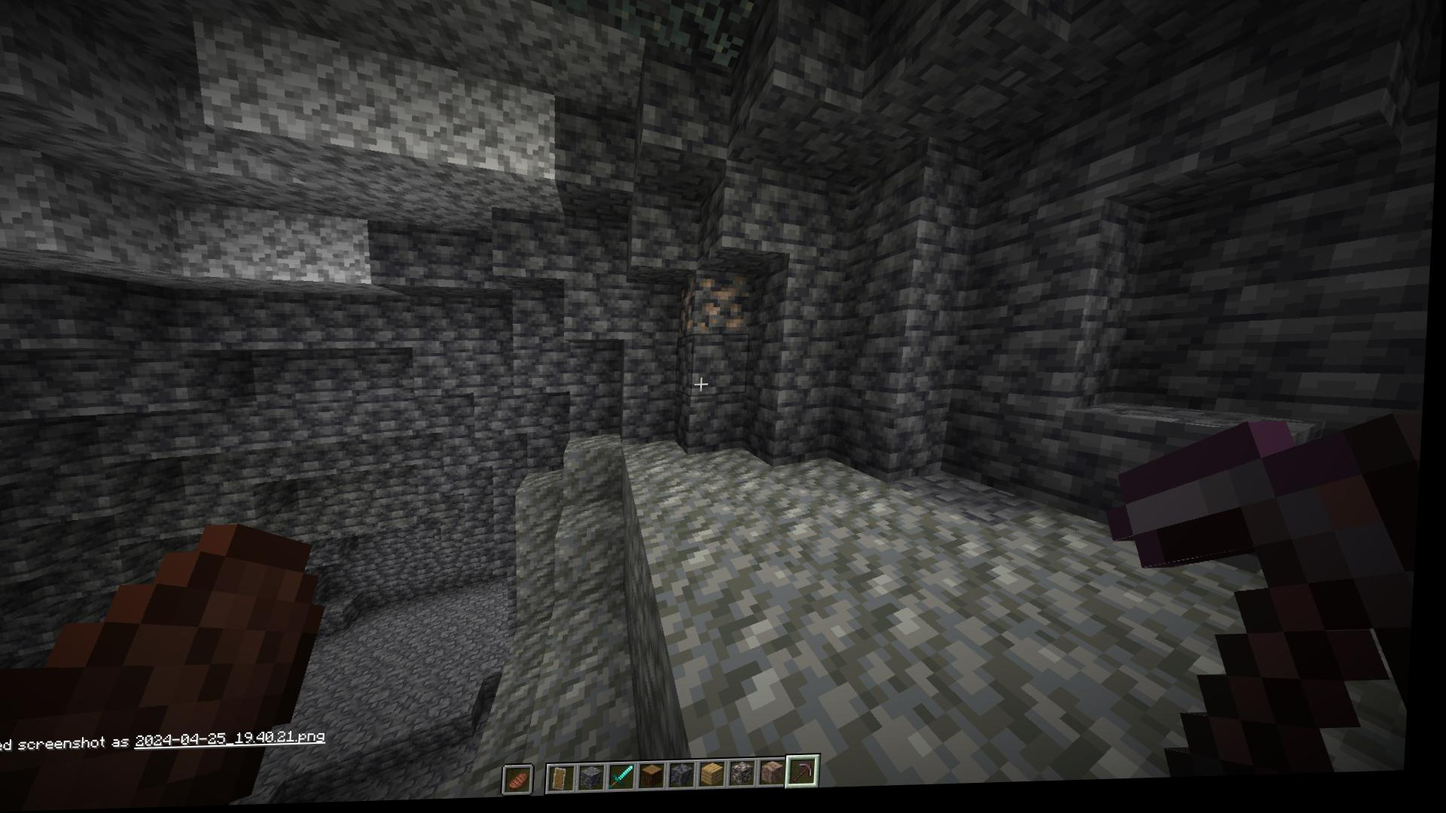iron ore: (696, 276, 761, 339), (677, 284, 703, 338)
